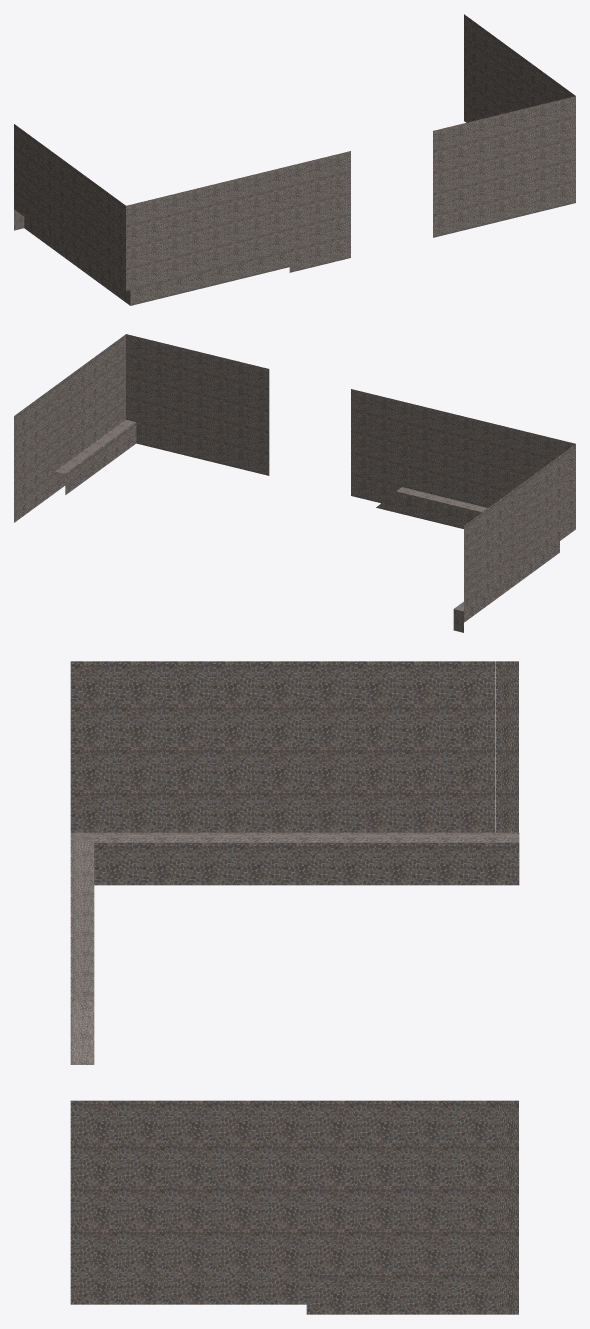
Rendered from ext2.obj.
3 renders of one model, top to bottom at view 1: azimuth 30°, elevation 25°; view 2: azimuth 150°, elevation 25°; view 3: azimuth 270°, elevation 25°, orthographic. The views are drawn at different scales.
Visible parts, largest first — view 1: pasted__pasted__pasted__pasted__pasted__pasted__pasted__pasted__; view 2: pasted__pasted__pasted__pasted__pasted__pasted__pasted__pasted__; view 3: pasted__pasted__pasted__pasted__pasted__pasted__pasted__pasted__.
Boxes of the visible parts, x1,y1,x2,y2 form: pasted__pasted__pasted__pasted__pasted__pasted__pasted__pasted__: (14,14,575,305); pasted__pasted__pasted__pasted__pasted__pasted__pasted__pasted__: (14,334,575,632); pasted__pasted__pasted__pasted__pasted__pasted__pasted__pasted__: (70,661,519,1314).
Size of the model in its own units: 22 by 5 by 9.5.
Materials: 217 (217 with a texture image).
